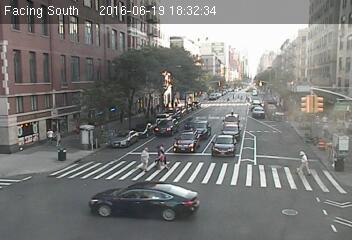neg: (253, 85, 279, 120), (95, 122, 120, 156), (136, 186, 157, 212), (117, 110, 136, 134), (81, 132, 98, 154), (78, 110, 92, 128), (195, 80, 208, 98), (168, 140, 177, 153)
pos: (290, 147, 315, 180), (150, 142, 172, 171), (135, 145, 155, 173), (41, 126, 58, 149), (50, 128, 67, 150), (318, 119, 334, 139), (320, 111, 332, 127)
